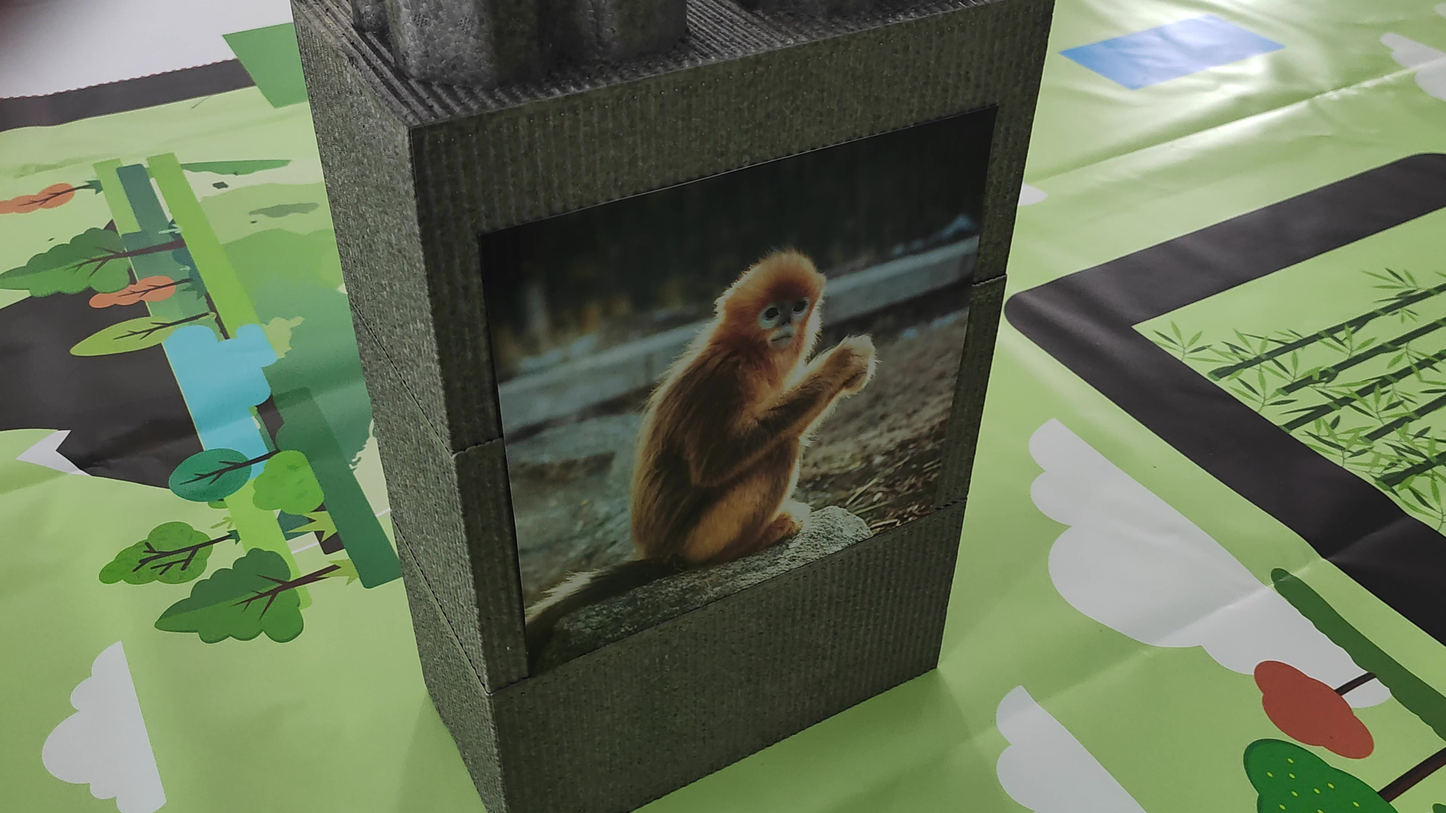monkey: (546, 190, 948, 587)
